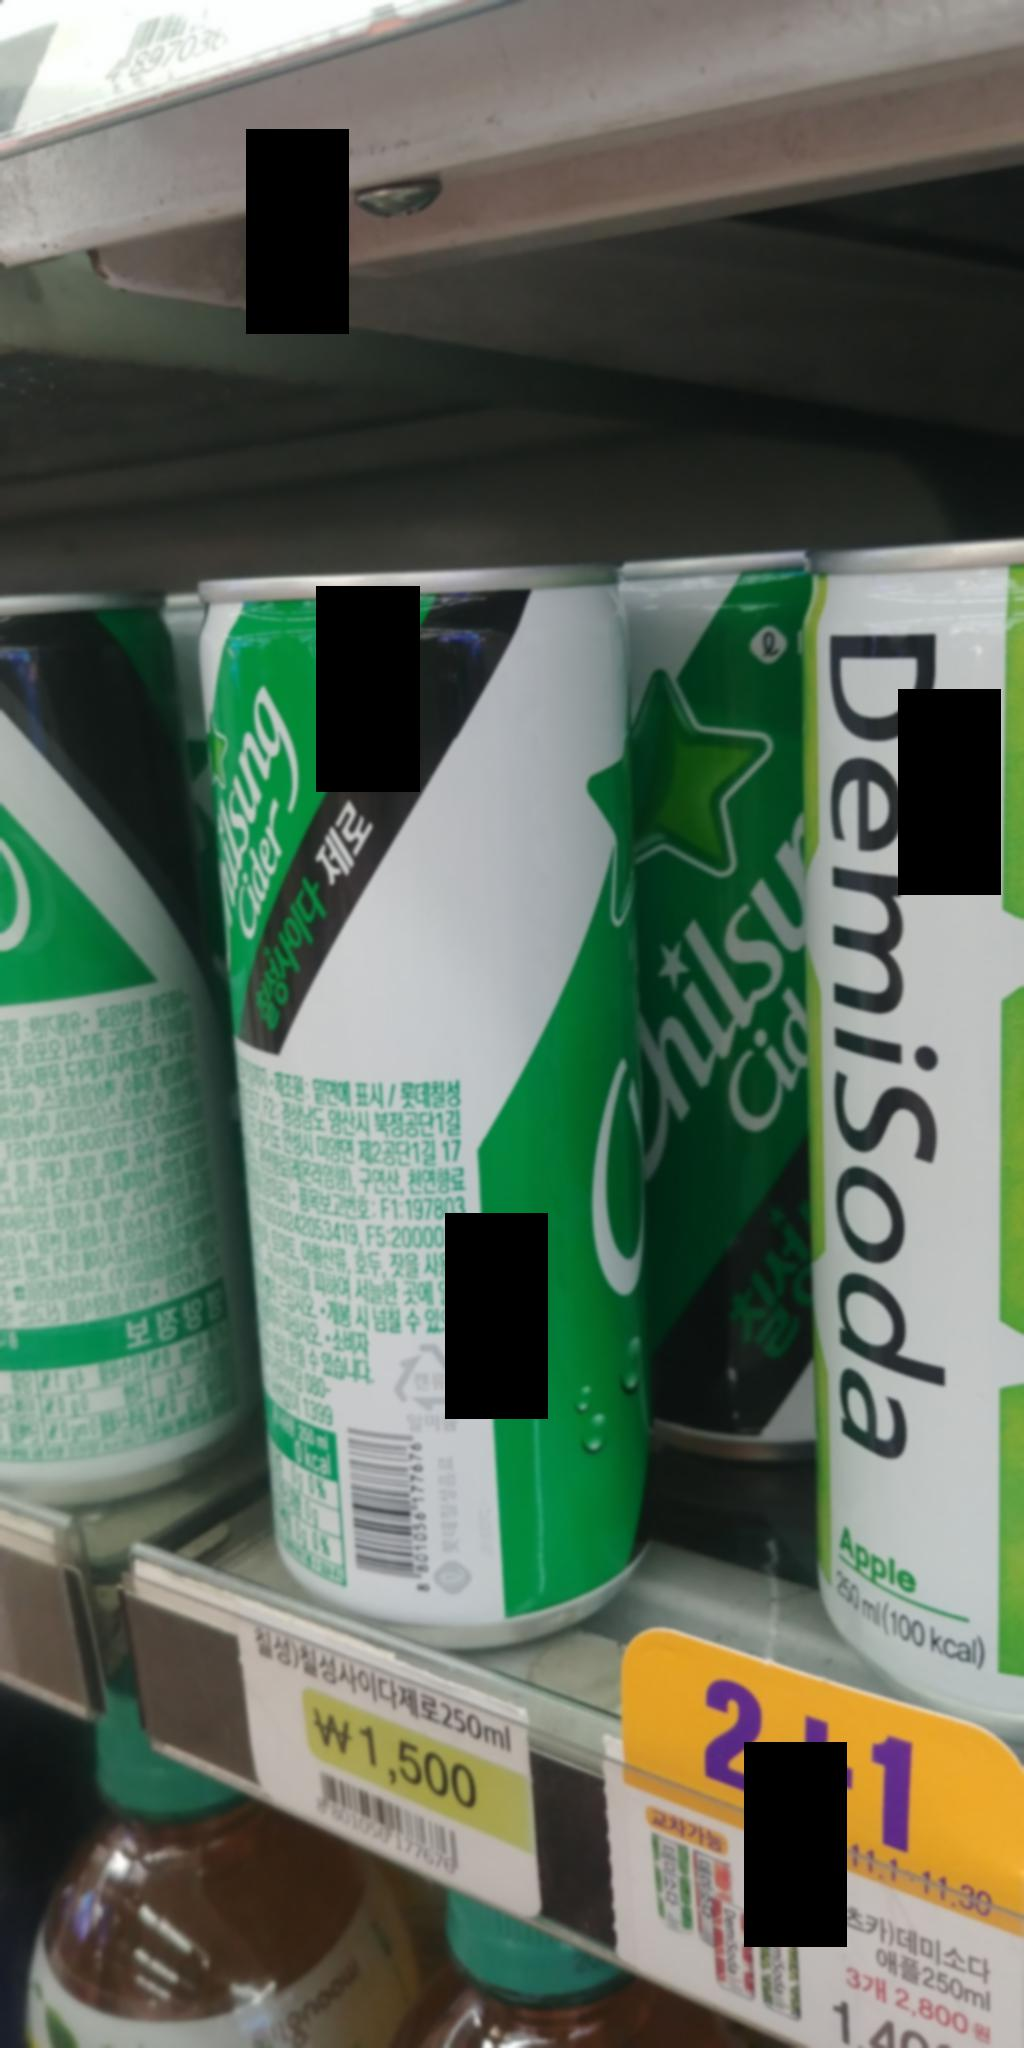chilsungcider_zero: (205, 567, 657, 1642), (620, 541, 822, 1459)
